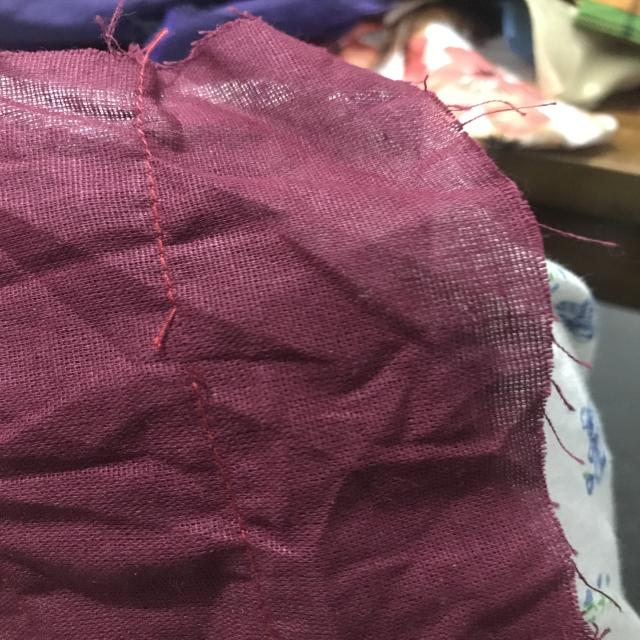broken: (116, 295, 242, 399)
good: (133, 189, 195, 267)
